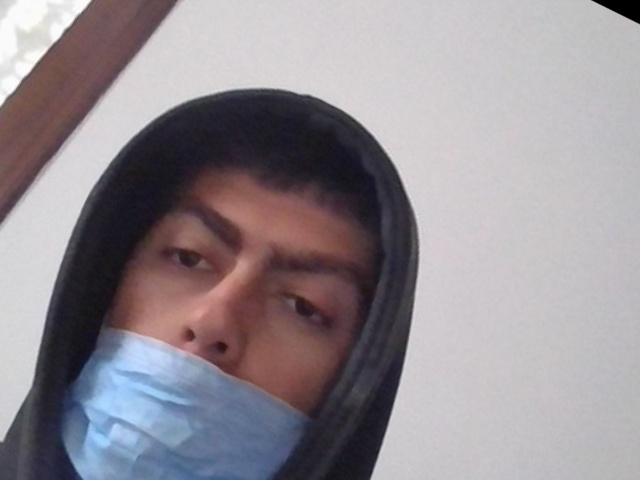mask_weared_incorrect: (58, 156, 382, 480)
